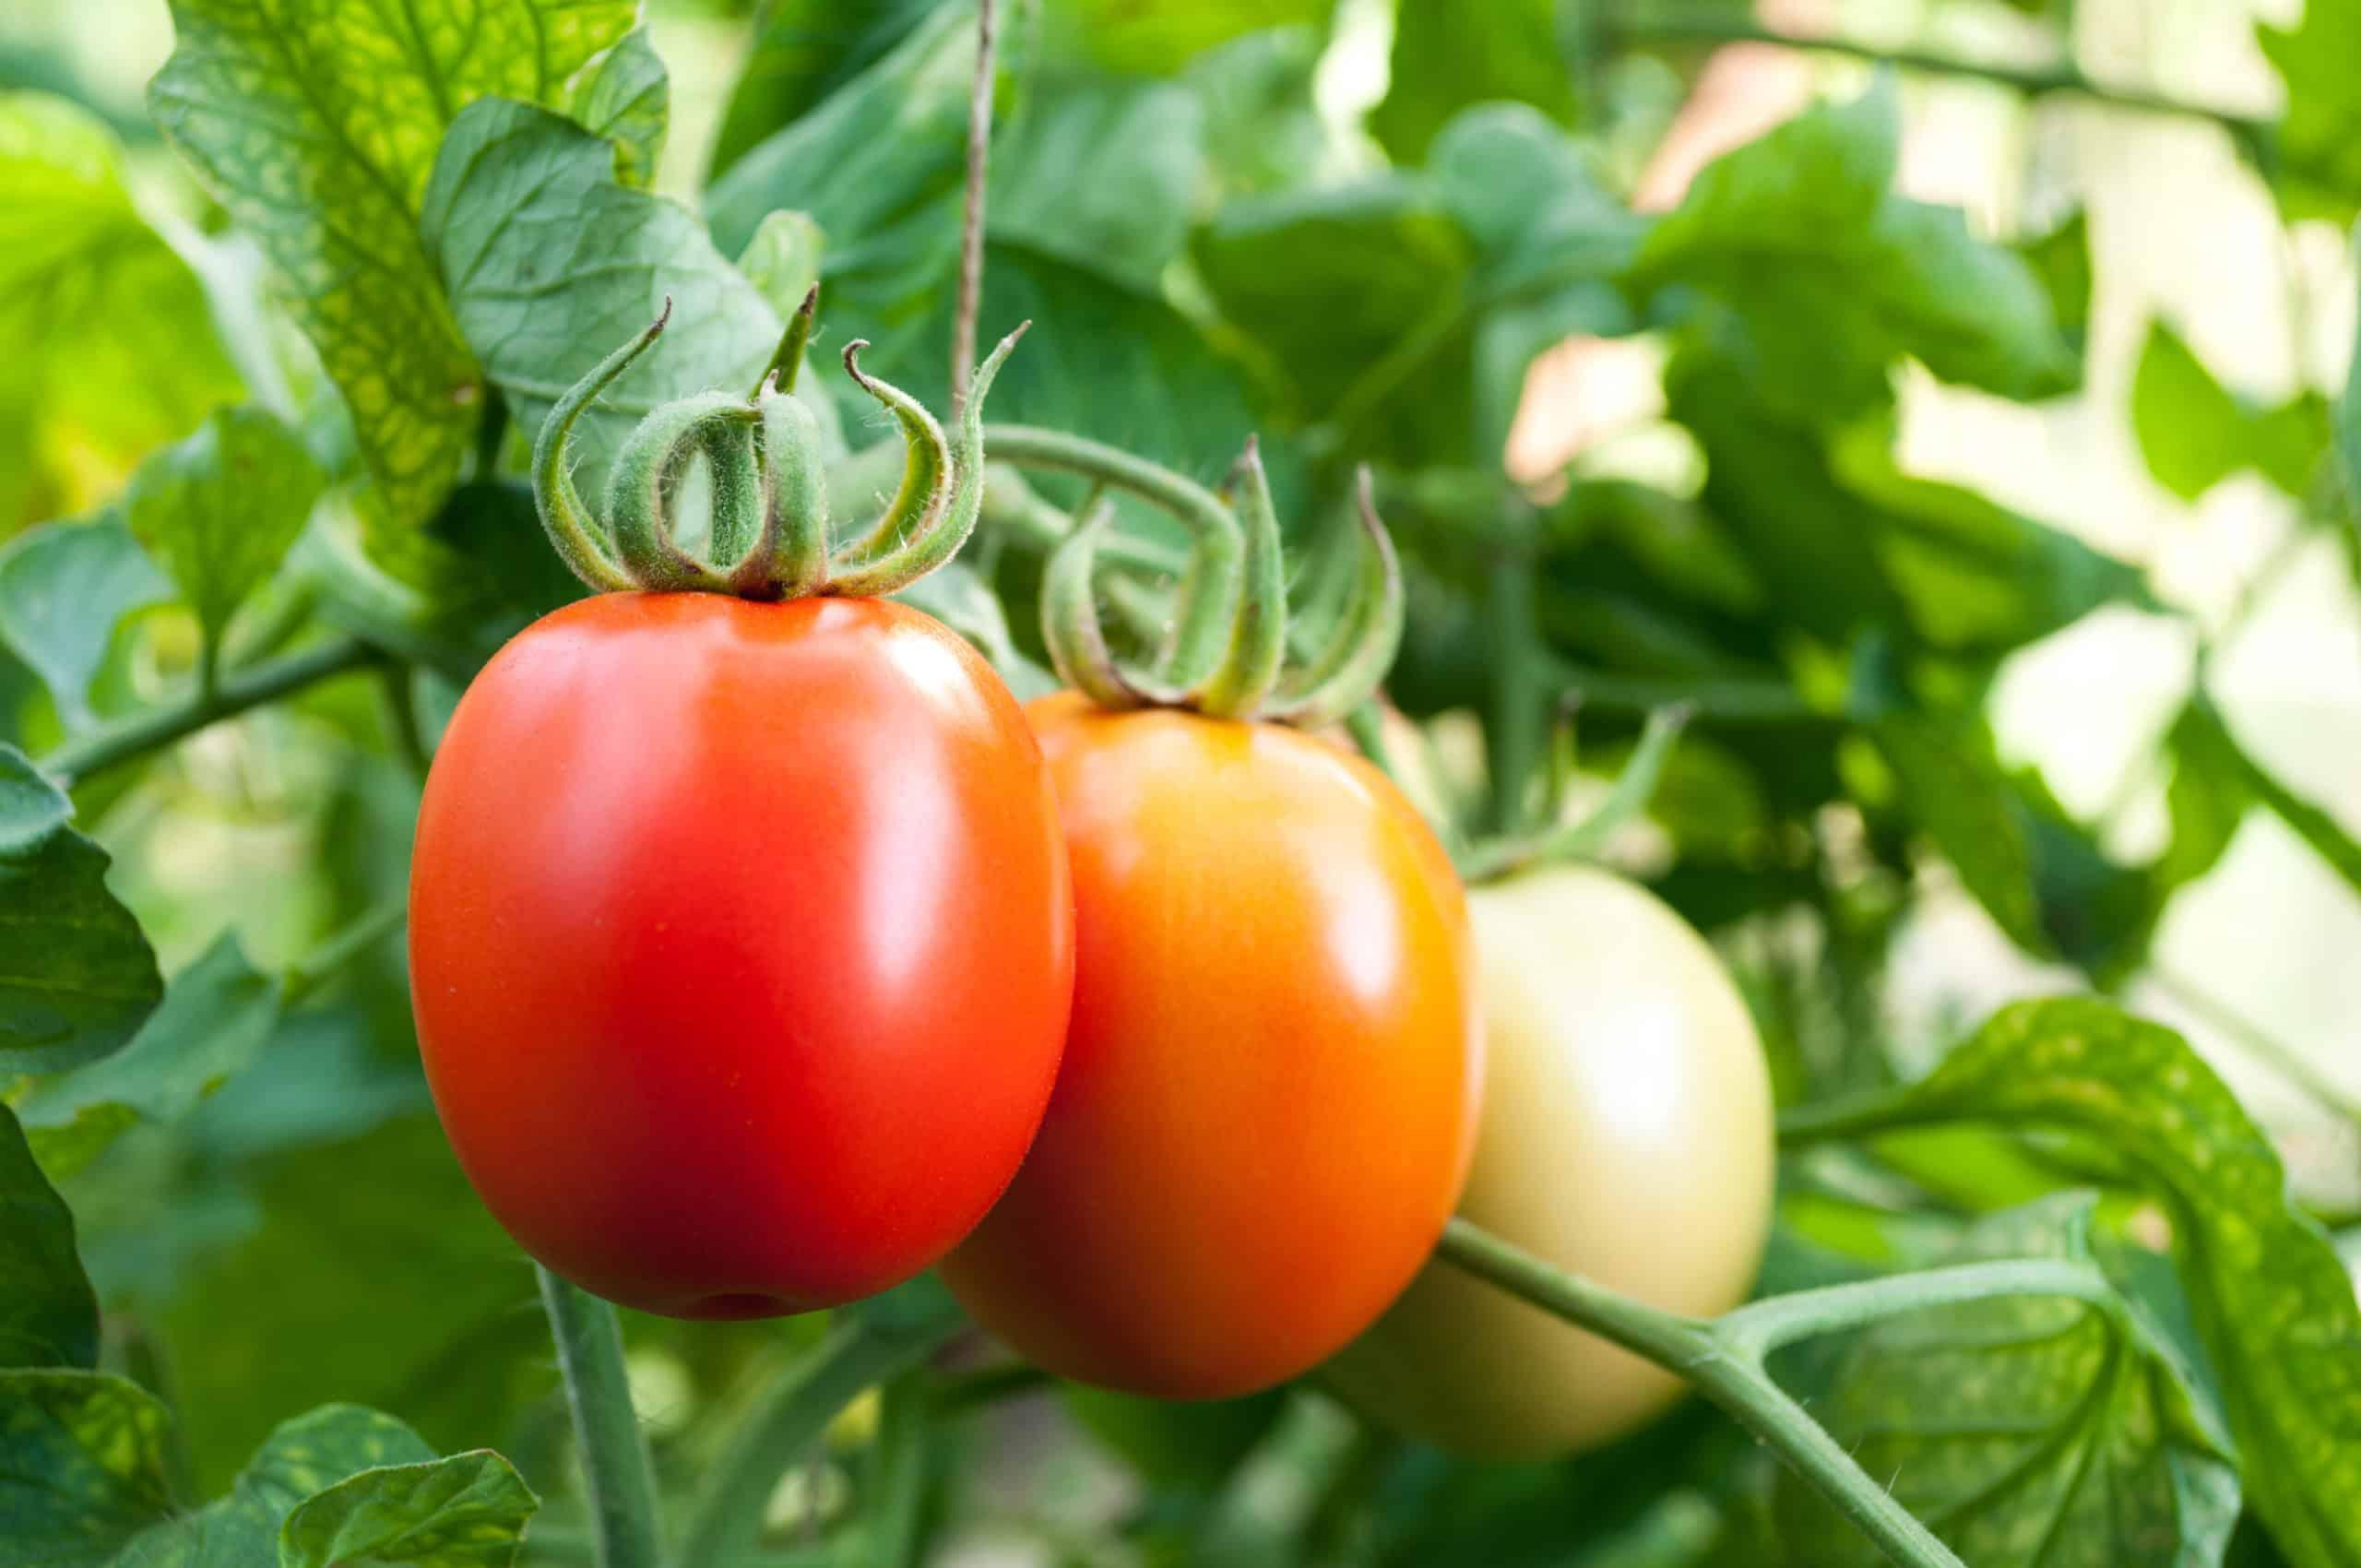healthy-tomato: (406, 401, 1084, 1332), (932, 691, 1492, 1411)
